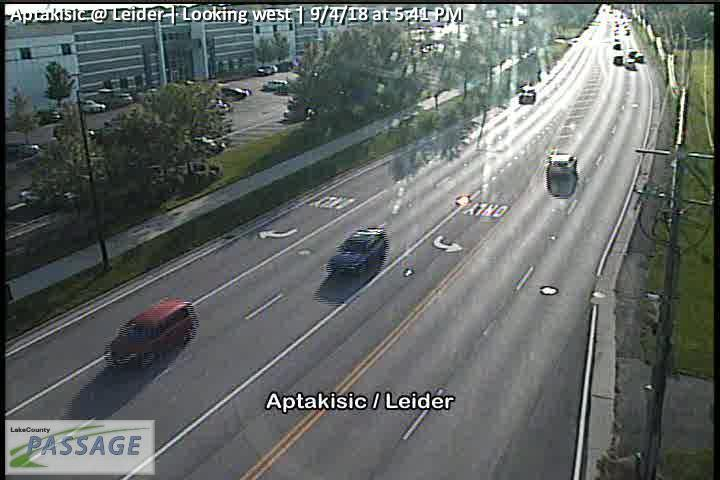SUV: (107, 299, 200, 368)
Sedan: (328, 230, 387, 274), (546, 154, 577, 183), (217, 87, 249, 99), (518, 84, 536, 102), (79, 100, 105, 111), (263, 79, 287, 88), (257, 64, 280, 73)
